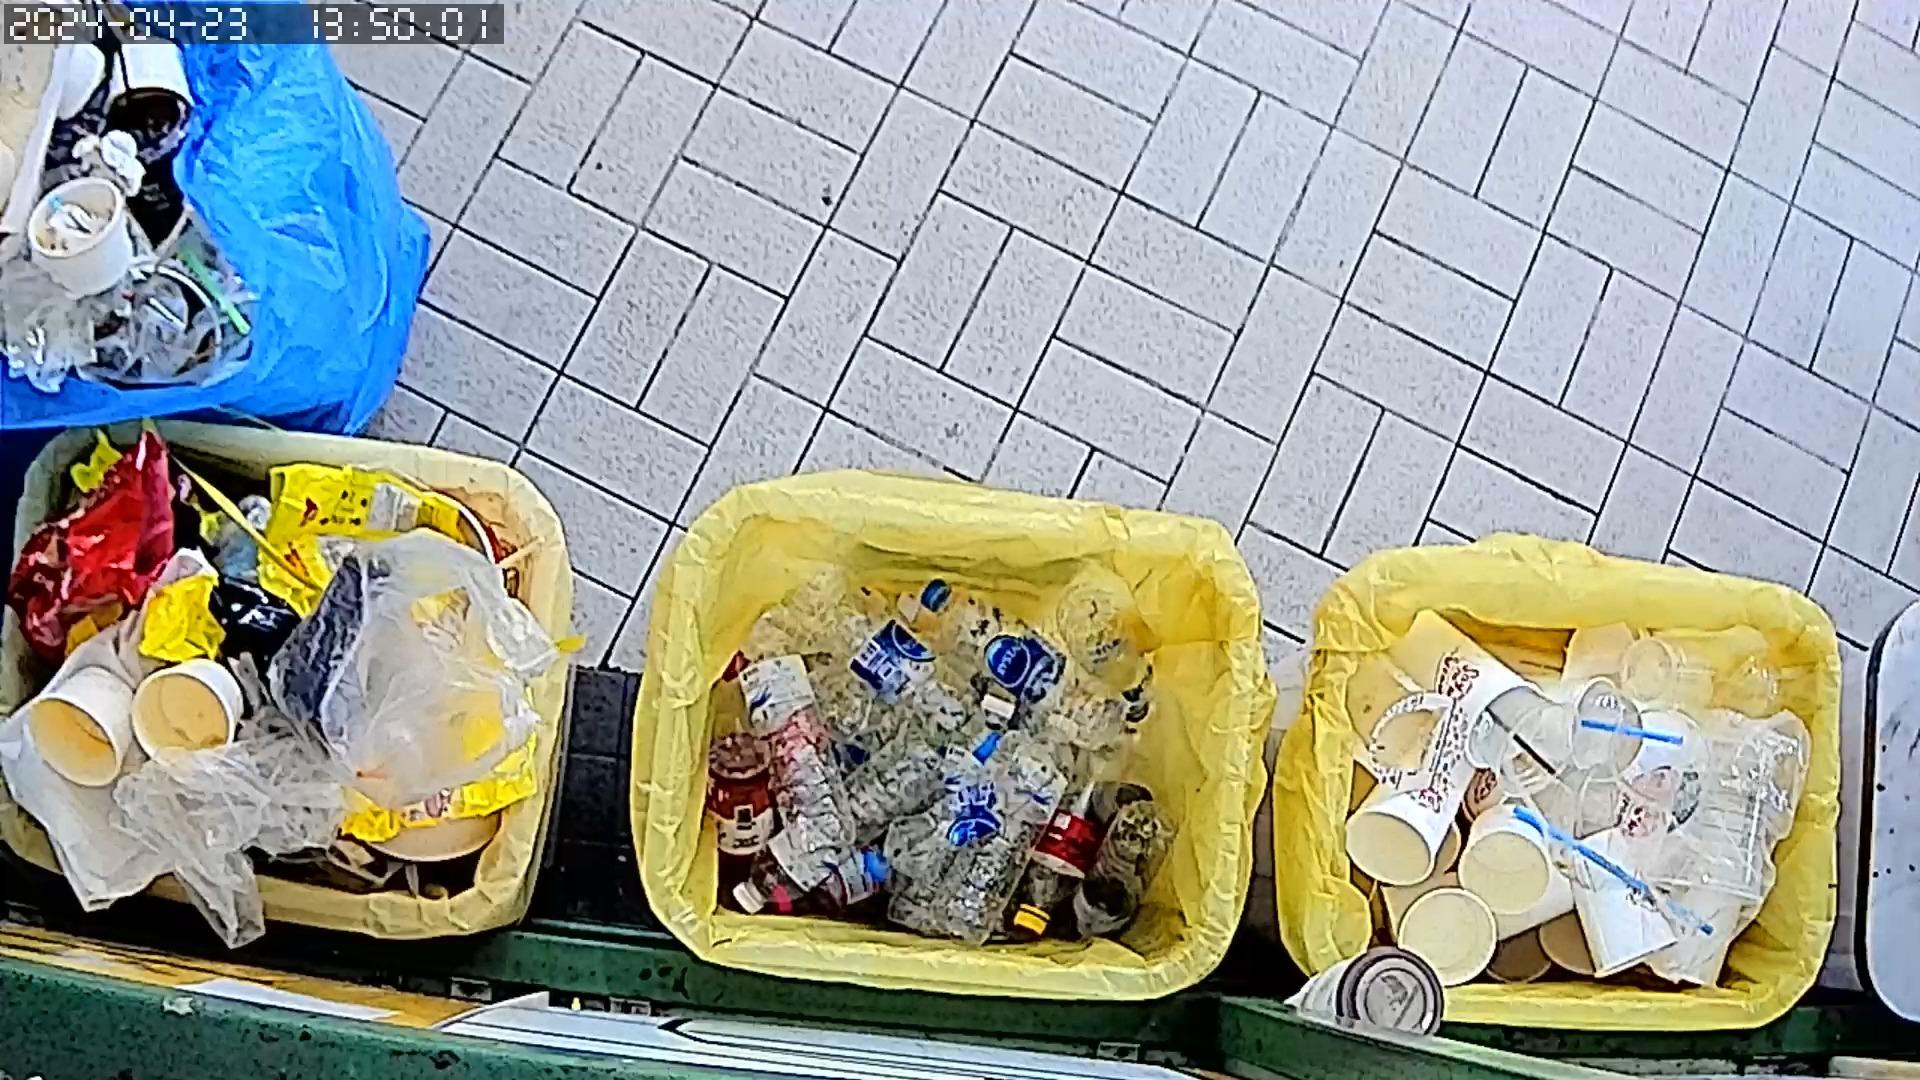can: (712, 731, 779, 860)
dirty food container: (75, 262, 227, 392), (25, 173, 141, 301)
filled plastic bag: (262, 520, 538, 803), (1631, 717, 1799, 923)
food container: (32, 661, 144, 787), (140, 654, 255, 767), (1395, 885, 1503, 989), (1458, 802, 1556, 916)
plastic bag: (0, 600, 219, 916), (113, 690, 357, 951)
plastic bottle: (775, 580, 1015, 777), (878, 713, 1081, 935), (735, 725, 947, 918), (926, 575, 1142, 754), (728, 611, 873, 857), (865, 725, 1067, 890), (1015, 765, 1129, 940), (1069, 796, 1183, 953), (1047, 588, 1160, 723)
plastic cup: (1320, 640, 1470, 798), (1564, 827, 1685, 990), (1629, 617, 1788, 727), (1543, 764, 1638, 895), (1476, 691, 1577, 800), (1575, 674, 1643, 786)
snack packaging: (5, 431, 177, 644), (141, 546, 229, 669)
straw: (1519, 818, 1717, 938), (1572, 698, 1688, 761), (1484, 705, 1565, 786)
zero waste cup: (1379, 607, 1557, 769), (1340, 752, 1476, 890), (1518, 671, 1622, 774)
